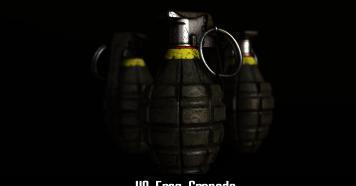Grenade: (139, 9, 243, 176), (91, 30, 154, 154), (219, 28, 276, 155)
